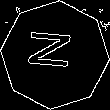N_E: (28, 33, 82, 77)
